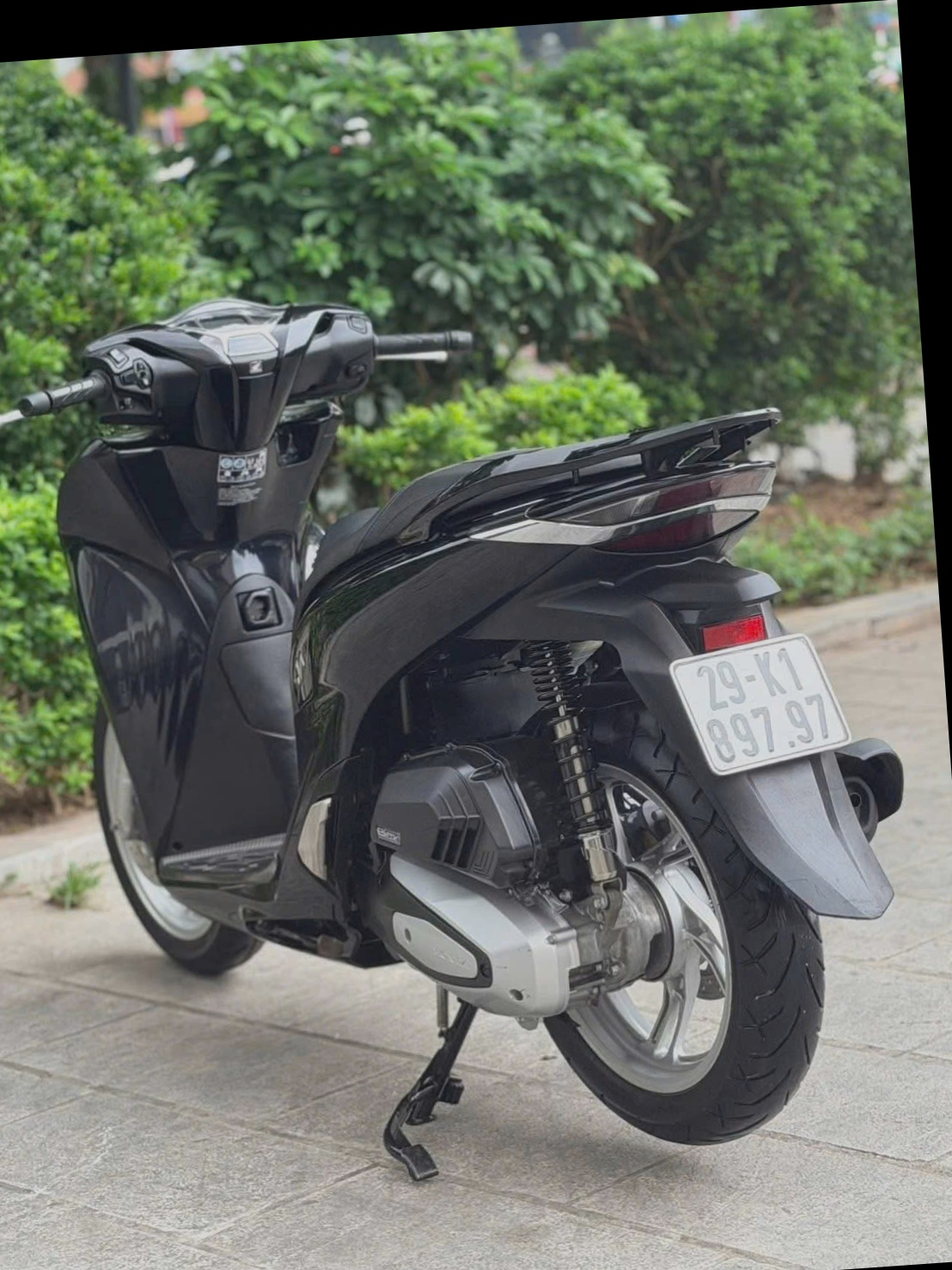Bien-so: (686, 614, 874, 769)
